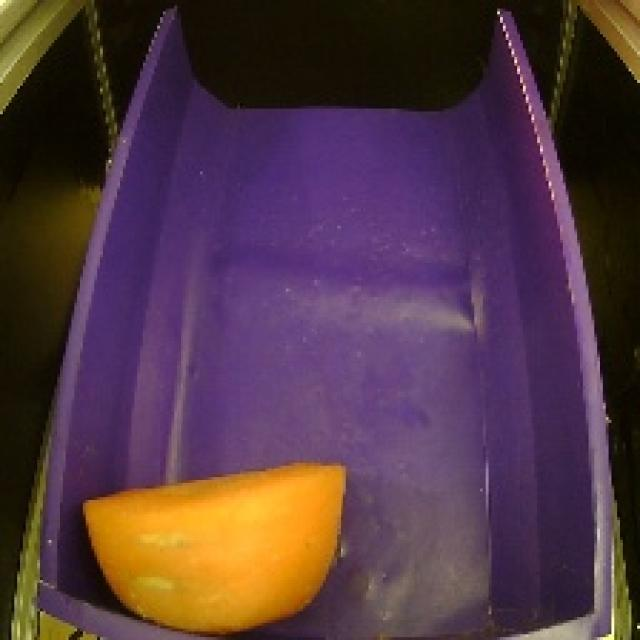carrots: (74, 457, 364, 640)
